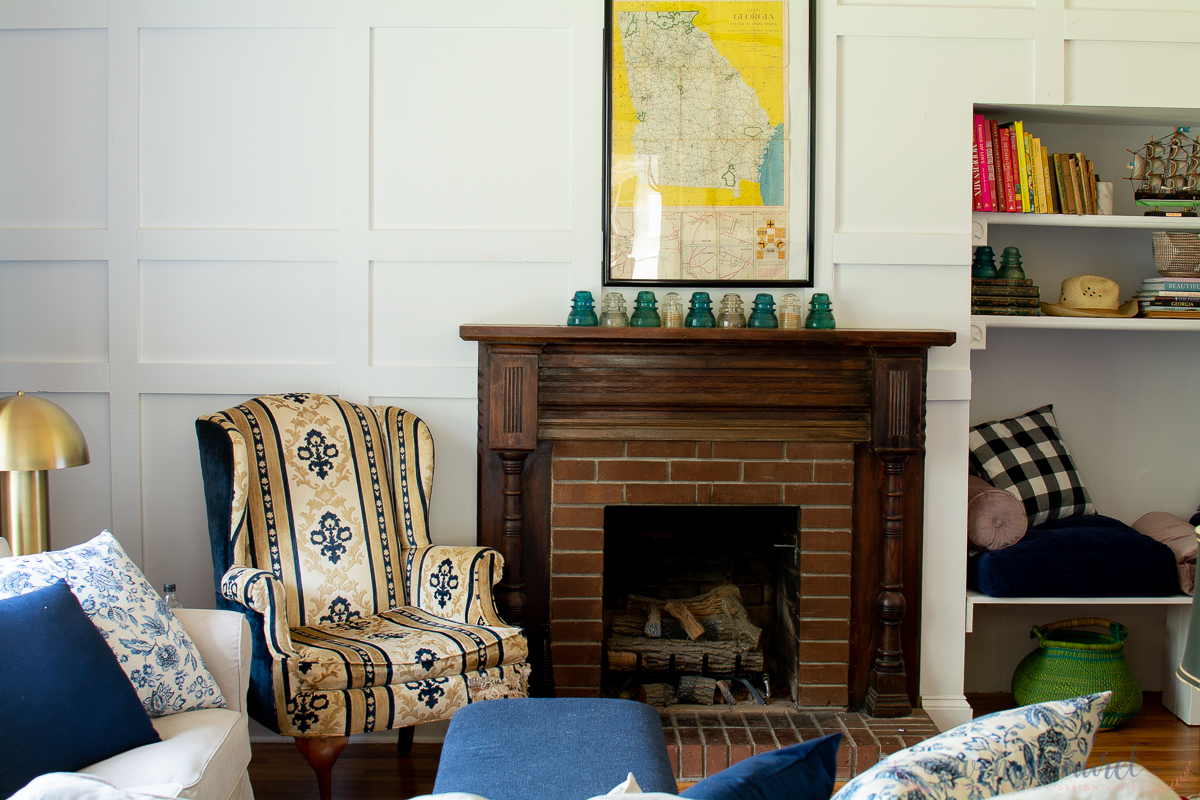biru: (1, 601, 151, 759), (438, 696, 662, 800), (674, 741, 838, 800)
hijau: (1013, 640, 1137, 709)
